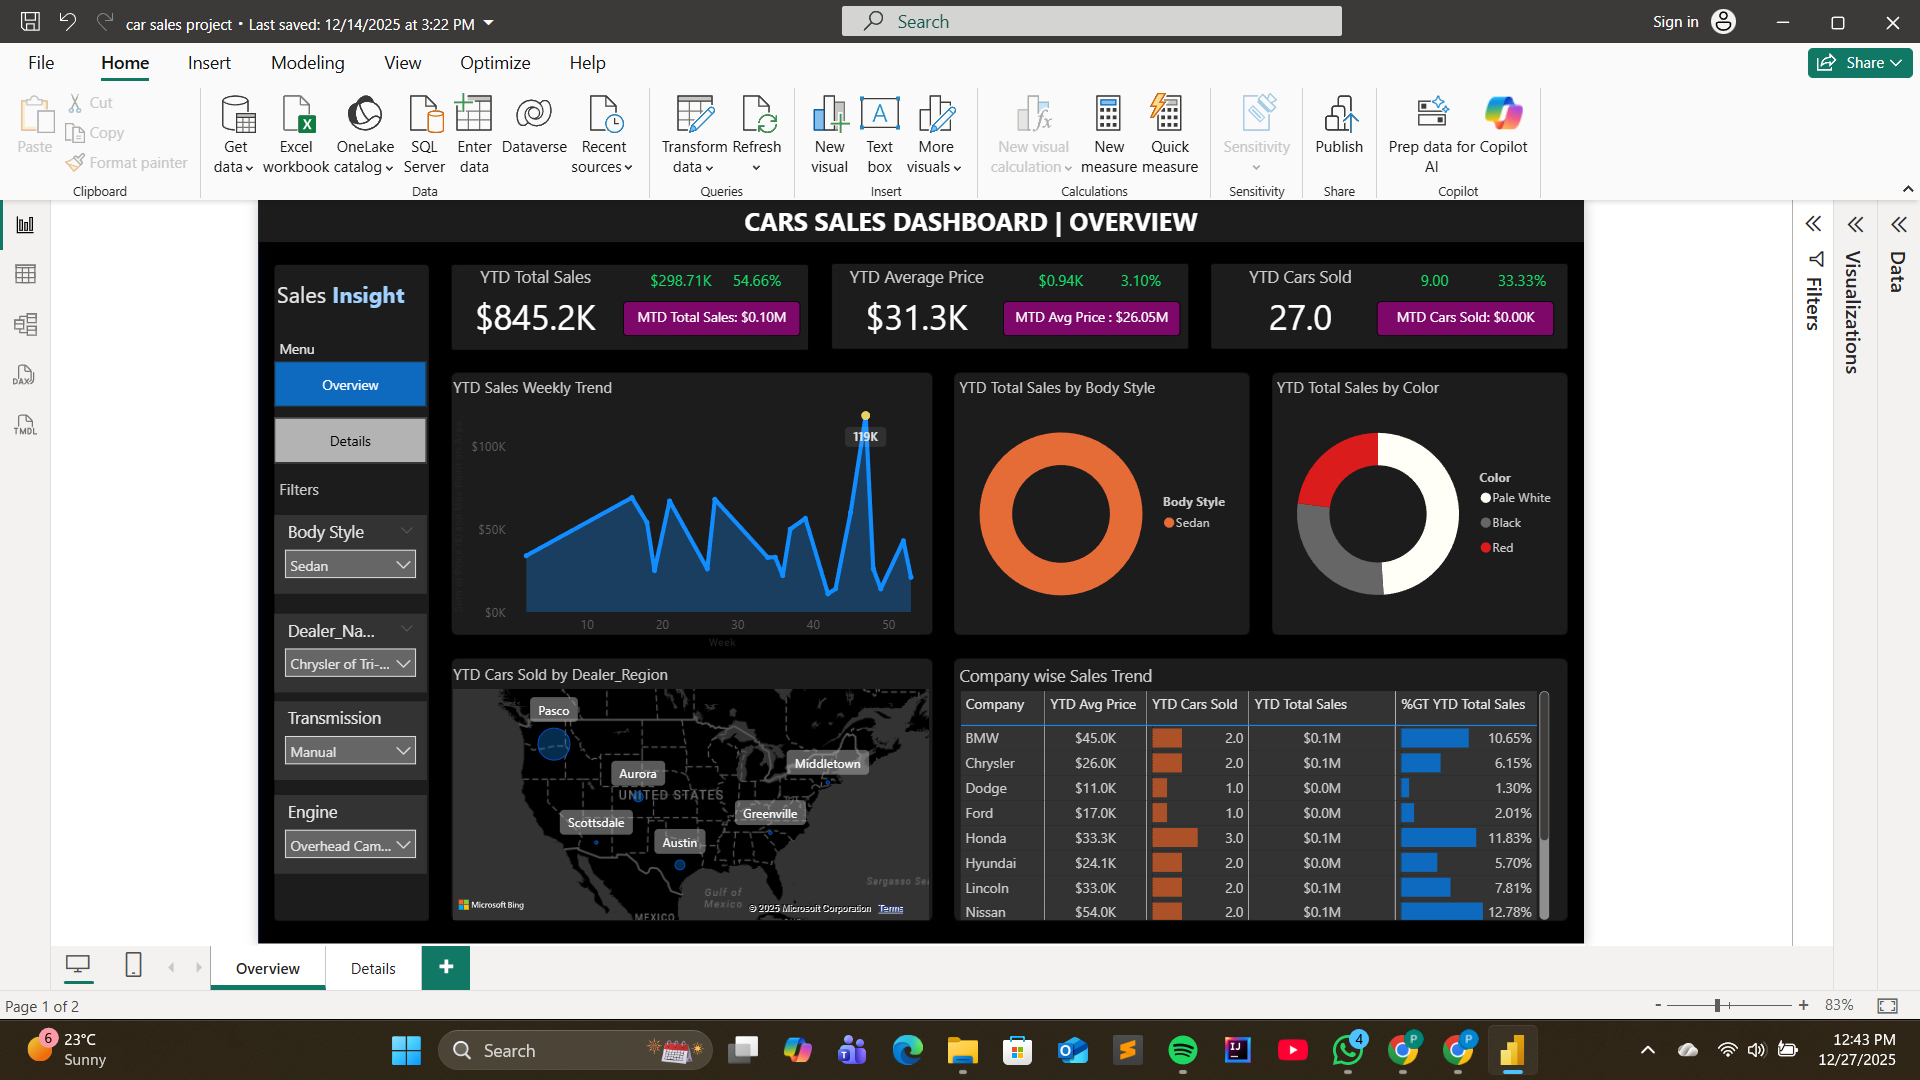

Layout of this report page (visuals, bound fields, positions):
{"tool":"powerbi","page":{"name":"Overview","canvas":[1280,720],"ordinal":0},"visuals":[{"type":"card","title":"YTD Total Sales","fields":{"Values":["car_data.Year To Date"]},"box":[170.1,62.7,195.4,78.4],"z":0},{"type":"card","fields":{"Values":["car_data.difference of sales"]},"box":[352.3,62.7,112.2,35],"z":1000},{"type":"card","fields":{"Values":["car_data.YoY"]},"box":[425.9,62.7,112.2,35],"z":2000},{"type":"card","fields":{"Values":["car_data.MTD KPI"]},"box":[352.3,97.7,171.3,33.8],"z":3000},{"type":"card","title":"YTD Average Price","fields":{"Values":["car_data.YTD Avg Price"]},"box":[538.1,62.7,195.4,78.4],"z":4000},{"type":"card","fields":{"Values":["car_data.Avg price diff"]},"box":[719,62.7,112.2,35],"z":5000},{"type":"card","fields":{"Values":["car_data.YoY Avg Price"]},"box":[796.3,62.7,112.2,35],"z":6000},{"type":"card","fields":{"Values":["car_data.MTD Avg price KPI"]},"box":[719,97.7,171.3,33.8],"z":7000},{"type":"card","title":"YTD Cars Sold","fields":{"Values":["car_data.YTD Cars Sold"]},"box":[908.4,62.7,195.4,78.4],"z":8000},{"type":"card","fields":{"Values":["car_data.Cars Sold Diff"]},"box":[1079.8,62.7,112.2,35],"z":9000},{"type":"card","fields":{"Values":["car_data.YoY Car Sold Growth"]},"box":[1164.2,62.7,112.2,35],"z":10000},{"type":"card","fields":{"Values":["car_data.MTD Cars Sold KPI"]},"box":[1079.8,97.7,171.3,33.8],"z":11000},{"type":"areaChart","title":"YTD Sales Weekly Trend","fields":{"Category":["Calender Table.Week"],"Y":["Sum(car_data.Price ($))","car_data.Max Point on Area Chart"]},"box":[183.9,170.2,469.3,267.6],"z":12000},{"type":"donutChart","fields":{"Category":["car_data.Body Style"],"Y":["car_data.Year To Date"]},"box":[672,170.1,283.5,246.1],"z":13000},{"type":"donutChart","fields":{"Y":["car_data.Year To Date"],"Category":["car_data.Color"]},"box":[978.4,170.1,283.5,246.1],"z":14000},{"type":"map","fields":{"Category":["car_data.Dealer_Region"],"Size":["car_data.YTD Cars Sold"]},"box":[183.4,447.6,469.3,252.1],"z":15000},{"type":"tableEx","title":"Company wise Sales Trend","fields":{"Values":["car_data.Company","car_data.YTD Avg Price","car_data.YTD Cars Sold","car_data.Year To Date Total Sales","car_data.Year To Date"]},"box":[672,447.6,579.1,252.1],"z":16000},{"type":"textbox","box":[464.5,0,469.3,49.5],"z":17000},{"type":"slicer","fields":{"Values":["car_data.Body Style"]},"box":[15.7,304,147.2,76],"z":18000},{"type":"slicer","fields":{"Values":["car_data.Dealer_Name"]},"box":[15.7,399.3,147.2,76],"z":18001},{"type":"slicer","fields":{"Values":["car_data.Transmission"]},"box":[15.7,483.8,147.2,76],"z":18002},{"type":"slicer","fields":{"Values":["car_data.Engine"]},"box":[15.7,574.3,147.2,76],"z":18003},{"type":"textbox","box":[15.7,264.2,149.6,39.8],"z":18004},{"type":"pageNavigator","box":[15.7,155.6,147.2,98.9],"z":18005},{"type":"textbox","box":[13.3,71.2,150.8,53.1],"z":18006},{"type":"textbox","box":[15.7,129.1,49.5,41],"z":18007}]}

Visuals, with their boxes on the page's 1280x720 design canvas (x1, y1, x2, y2). These are canvas units, not pixel positions in the 1920x1080 screenshot, which may show the page scaled, cropped or inside an application window:
"YTD Total Sales" card: <box>170,63,366,141</box>
card - car_data.difference of sales: <box>352,63,464,98</box>
card - car_data.YoY: <box>426,63,538,98</box>
card - car_data.MTD KPI: <box>352,98,524,132</box>
"YTD Average Price" card: <box>538,63,734,141</box>
card - car_data.Avg price diff: <box>719,63,831,98</box>
card - car_data.YoY Avg Price: <box>796,63,908,98</box>
card - car_data.MTD Avg price KPI: <box>719,98,890,132</box>
"YTD Cars Sold" card: <box>908,63,1104,141</box>
card - car_data.Cars Sold Diff: <box>1080,63,1192,98</box>
card - car_data.YoY Car Sold Growth: <box>1164,63,1276,98</box>
card - car_data.MTD Cars Sold KPI: <box>1080,98,1251,132</box>
"YTD Sales Weekly Trend" areaChart: <box>184,170,653,438</box>
donutChart - car_data.Body Style x car_data.Year To Date: <box>672,170,956,416</box>
donutChart - car_data.Year To Date x car_data.Color: <box>978,170,1262,416</box>
map - car_data.Dealer_Region x car_data.YTD Cars Sold: <box>183,448,653,700</box>
"Company wise Sales Trend" tableEx: <box>672,448,1251,700</box>
textbox: <box>464,0,934,50</box>
slicer - car_data.Body Style: <box>16,304,163,380</box>
slicer - car_data.Dealer_Name: <box>16,399,163,475</box>
slicer - car_data.Transmission: <box>16,484,163,560</box>
slicer - car_data.Engine: <box>16,574,163,650</box>
textbox: <box>16,264,165,304</box>
pageNavigator: <box>16,156,163,254</box>
textbox: <box>13,71,164,124</box>
textbox: <box>16,129,65,170</box>
